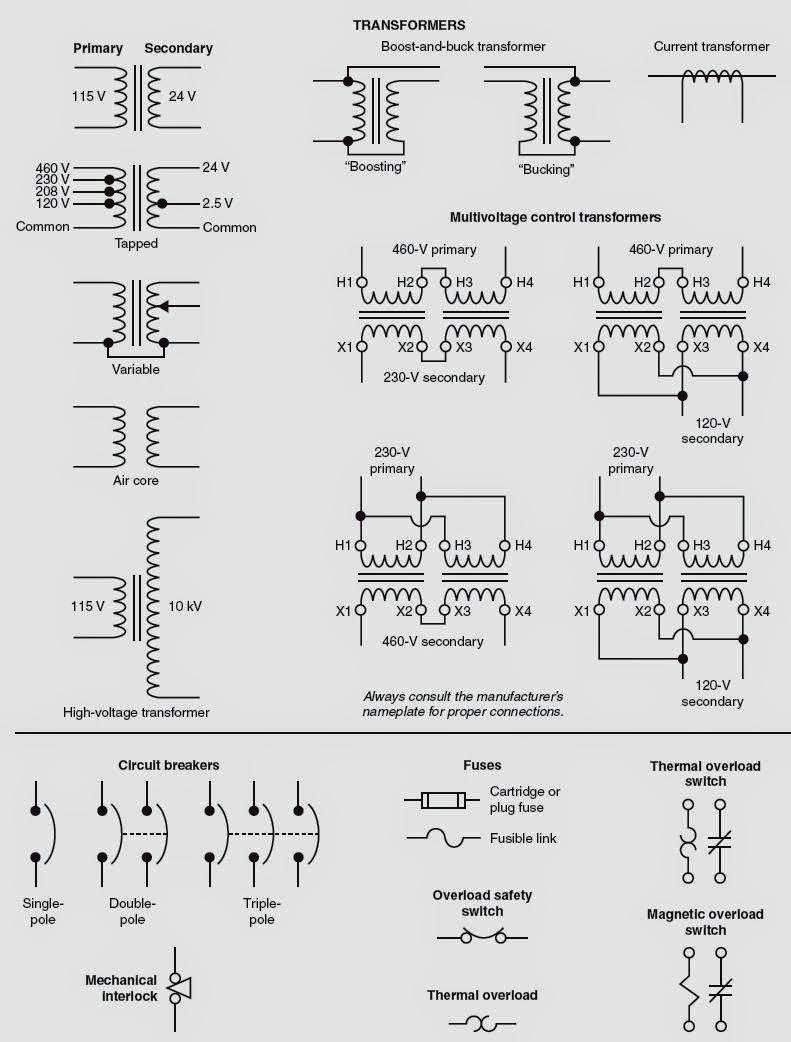breaker: (198, 777, 348, 892), (86, 769, 179, 891), (14, 765, 63, 881)
fuse: (390, 785, 483, 811)
transformer: (16, 495, 266, 701), (319, 480, 547, 628), (565, 491, 765, 659), (569, 263, 773, 400), (320, 261, 552, 370), (9, 151, 266, 245), (288, 54, 451, 173), (54, 261, 227, 362), (472, 57, 610, 177), (50, 391, 223, 472), (49, 59, 227, 134), (636, 59, 781, 126)
